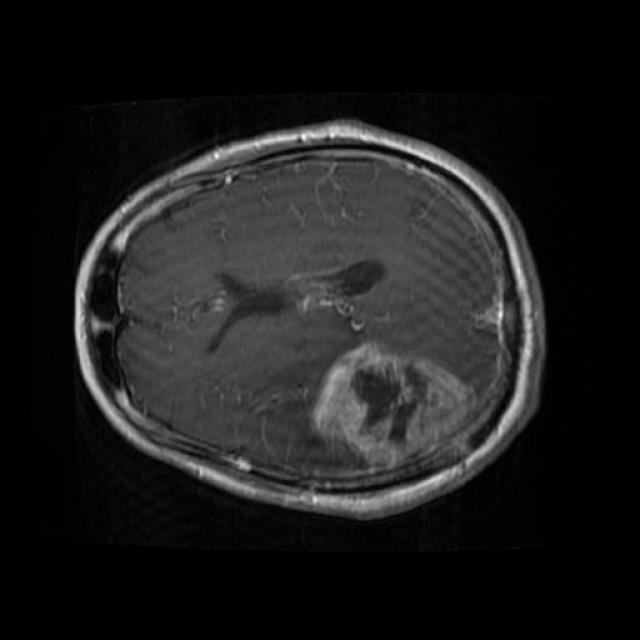Glioma: (312, 341, 476, 467)
